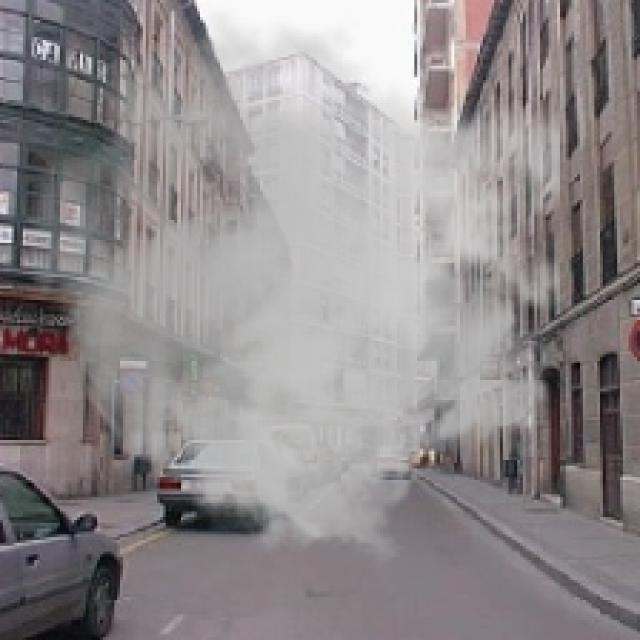smoke: (23, 6, 560, 566)
